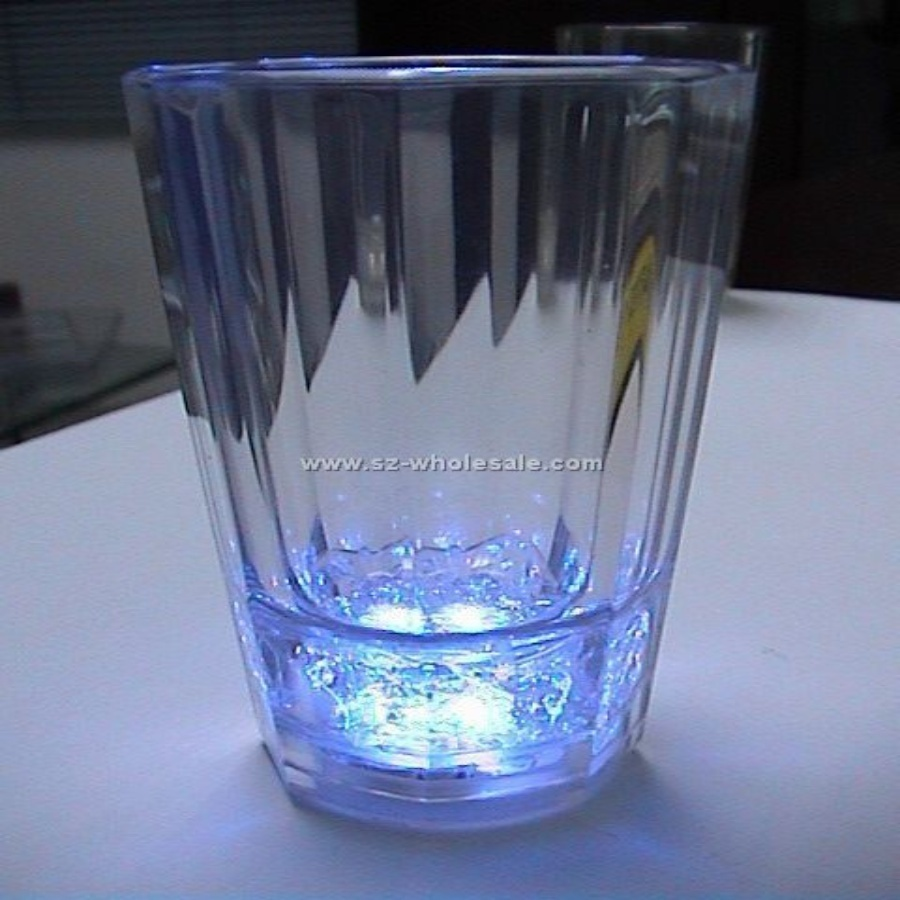whiskey: (148, 55, 748, 840)
